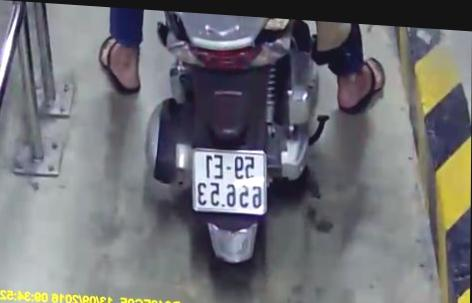License_Plate: (182, 142, 275, 225)
